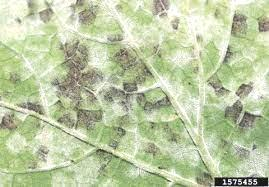Bok-Choy-Diseased: (14, 0, 256, 160)
